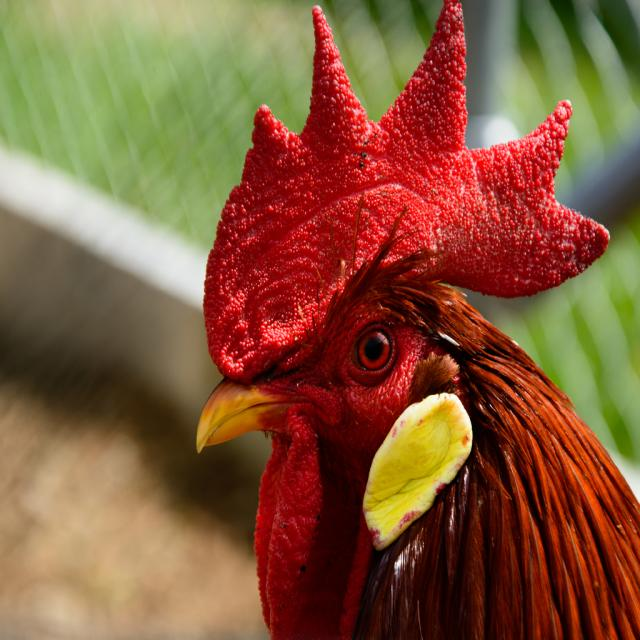Chicken: (196, 0, 640, 640)
